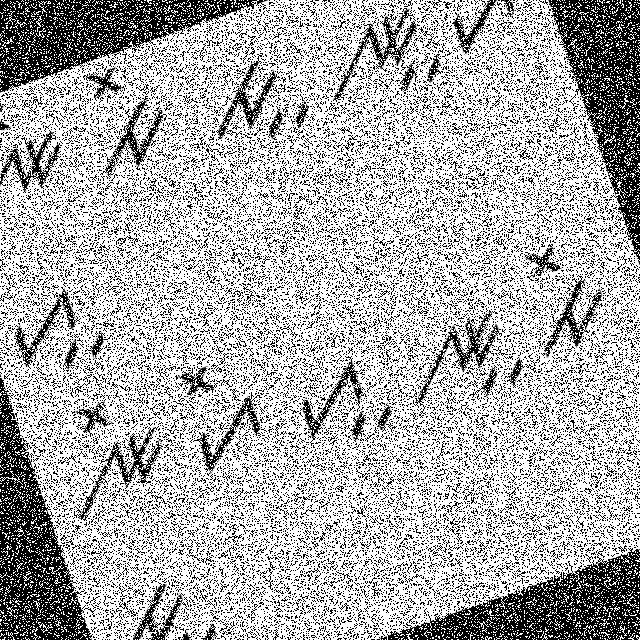hah: (0, 265, 125, 393), (276, 338, 404, 463)
ho: (164, 344, 282, 482), (424, 0, 535, 61)
mbah: (188, 34, 322, 167), (93, 560, 239, 639)
mbo: (59, 47, 185, 188), (507, 225, 628, 366)
ndah: (384, 294, 538, 432), (302, 0, 453, 123)
ndo: (33, 376, 181, 523), (0, 80, 81, 229)
